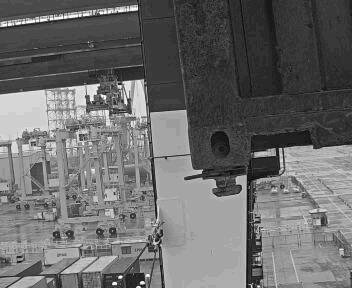twist_lock_1: (219, 159, 275, 198)
